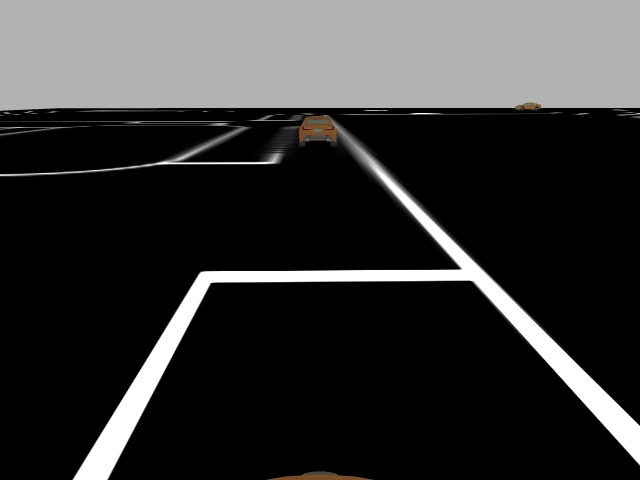obstacle_car: (297, 114, 340, 148)
